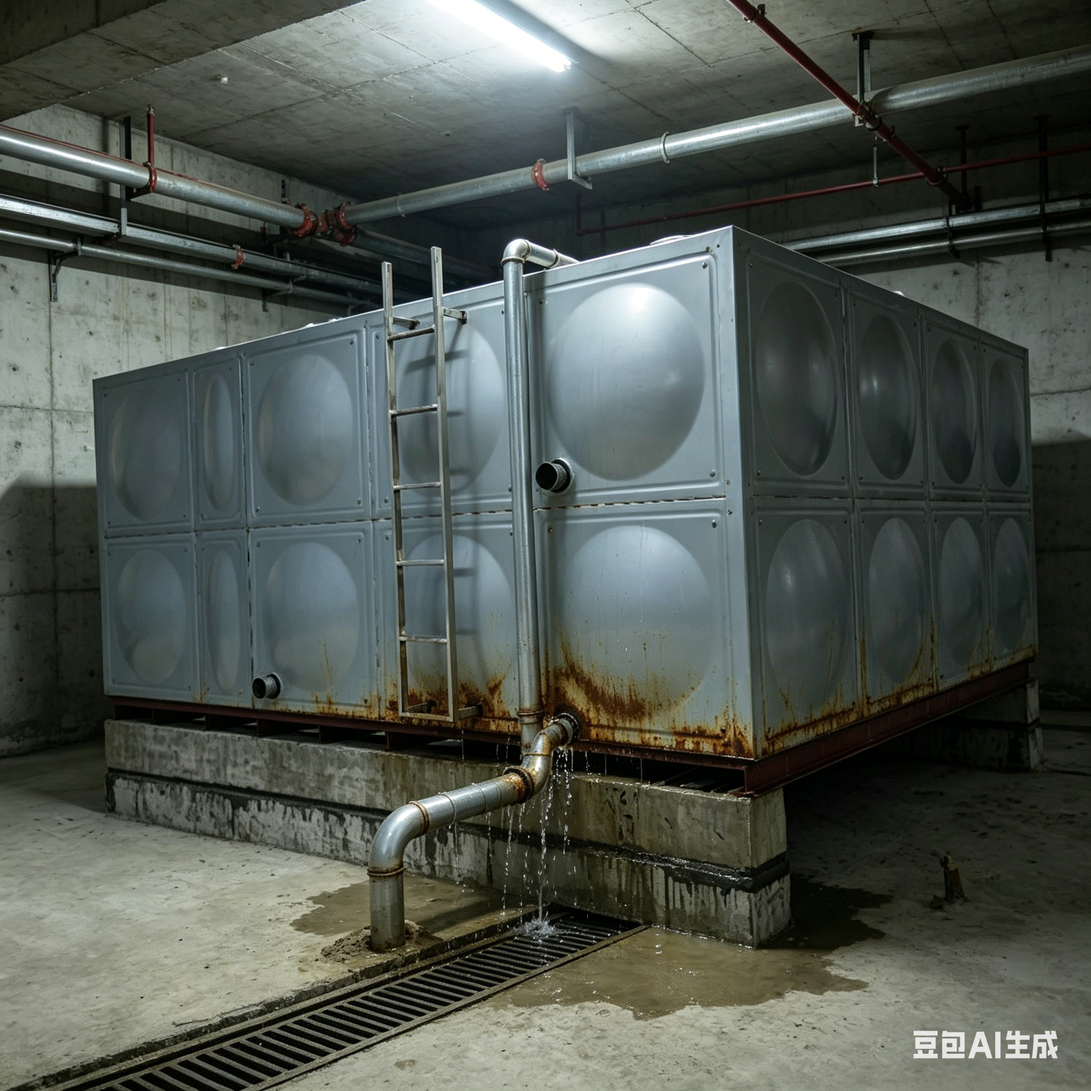Leakage: (481, 716, 622, 997), (634, 904, 882, 1017), (305, 864, 473, 959)
